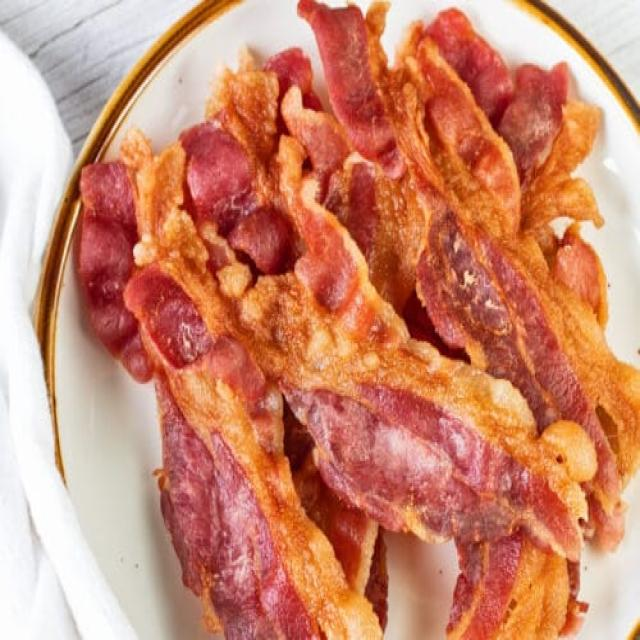bacon: (72, 15, 640, 640)
